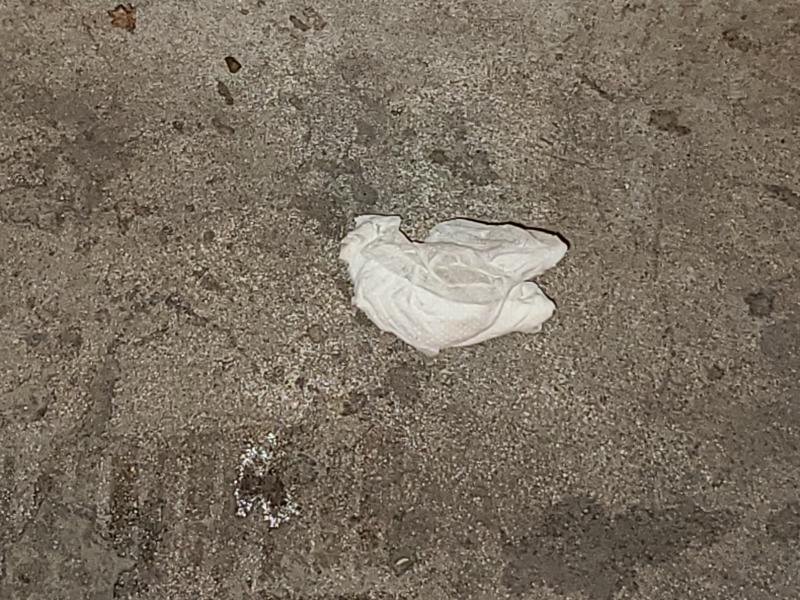papel: (340, 216, 572, 357)
